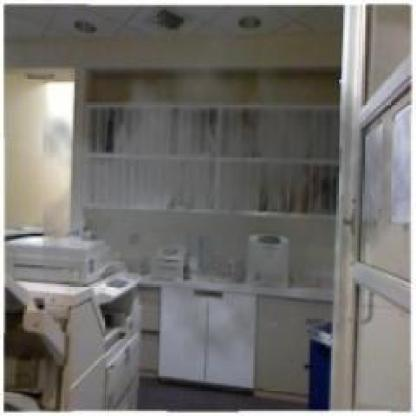Smoke: (42, 16, 402, 379)
